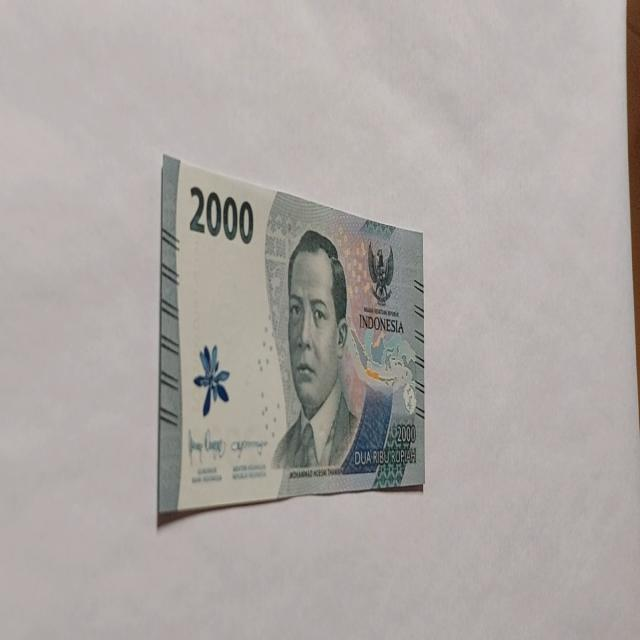dua ribu rupiah: (157, 152, 426, 524), (270, 226, 394, 486)
